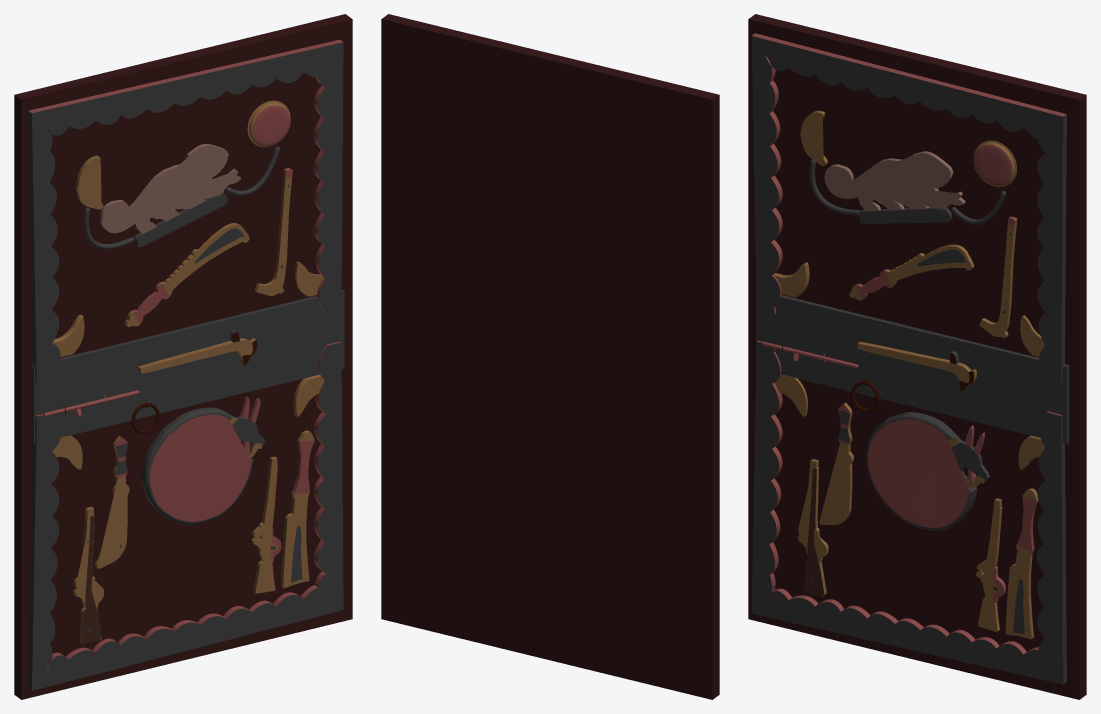
File: Portail_2.fbx
3 views of the same model, side by side, from view 1: azimuth 30°, elevation 25°; view 2: azimuth 150°, elevation 25°; view 3: azimuth 330°, elevation 25° (orthographic).
Visible parts, largest first — view 1: Cube, Extrusion_9_2, Cube_1, Extrusion_11, Extrusion_1, Extrusion_2, Extrusion, Extrusion_3, Extrusion_4, Cylindre_1_3, Extrusion_5, Extrusion_7 (+3 smaller); view 2: Cube; view 3: Cube, Extrusion_9_2, Cube_1, Extrusion_11, Extrusion_1, Extrusion_2, Extrusion, Extrusion_3, Extrusion_4, Cylindre_1_3, Extrusion_5, Extrusion_7 (+3 smaller).
Part boxes in pixels (<box>): Cube: <box>14,14,352,699</box>; Extrusion_9_2: <box>28,39,343,690</box>; Cube_1: <box>31,289,344,444</box>; Extrusion_11: <box>142,396,265,524</box>; Extrusion_1: <box>76,144,240,247</box>; Extrusion_2: <box>94,436,281,593</box>; Extrusion: <box>125,168,292,327</box>; Extrusion_3: <box>281,430,314,588</box>; Extrusion_4: <box>73,506,103,644</box>; Cylindre_1_3: <box>247,100,290,147</box>; Extrusion_5: <box>138,330,257,373</box>; Extrusion_7: <box>52,314,84,357</box>; Cube: <box>381,14,719,699</box>; Cube: <box>748,14,1086,699</box>; Extrusion_9_2: <box>751,33,1066,684</box>; Cube_1: <box>756,291,1069,444</box>; Extrusion_11: <box>866,412,990,530</box>; Extrusion_1: <box>800,110,965,223</box>; Extrusion_2: <box>819,402,1005,632</box>; Extrusion: <box>849,216,1017,338</box>; Extrusion_3: <box>1005,488,1038,639</box>; Extrusion_4: <box>798,459,828,596</box>; Cylindre_1_3: <box>973,140,1016,186</box>; Extrusion_5: <box>857,341,976,390</box>; Extrusion_7: <box>773,262,809,297</box>.
Size of the model in its own units: 702 by 1216 by 48.79.
